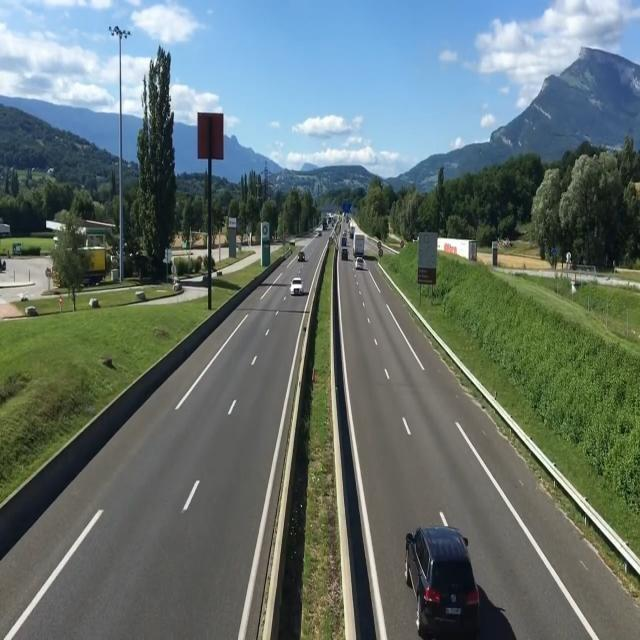Car: (404, 525, 482, 636), (290, 277, 304, 295), (355, 257, 366, 269), (296, 250, 306, 262), (341, 248, 349, 261)
Truck: (352, 234, 366, 258)
